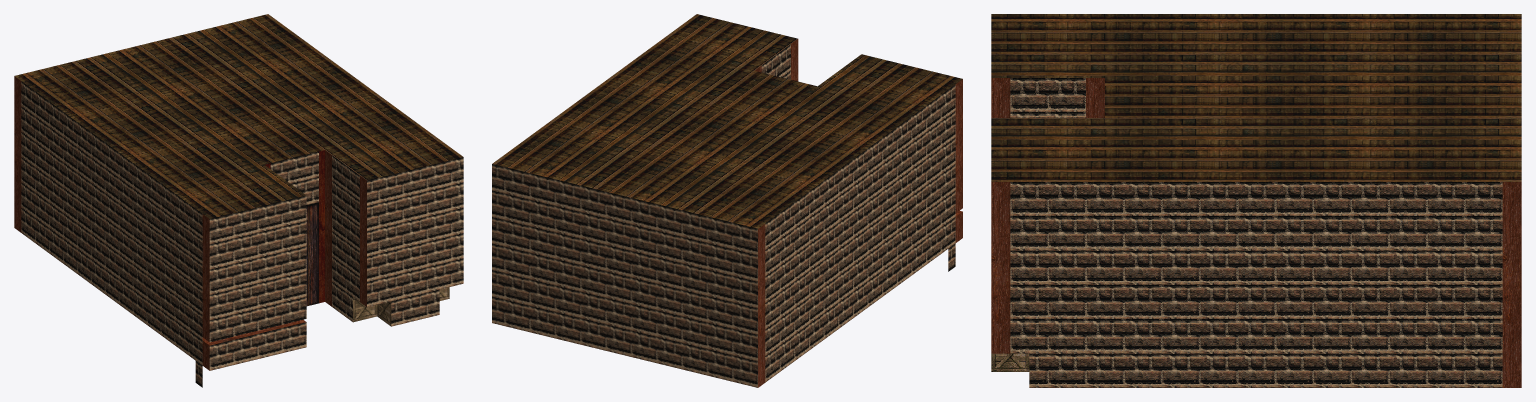
File: zddb04.blv.obj
The picture shows the model from 3 angles, left to right: view 1: azimuth 30°, elevation 25°; view 2: azimuth 150°, elevation 25°; view 3: azimuth 270°, elevation 25°; orthographic projection. The views are drawn at different scales.
Visible parts, largest first — view 1: Room1; view 2: Room1; view 3: Room1.
Part boxes in pixels (left/top/right/bottom): Room1: left=14, top=14, right=463, bottom=387; Room1: left=492, top=14, right=962, bottom=387; Room1: left=991, top=14, right=1521, bottom=387.
Size of the model in its own units: 672 by 440 by 896.
Materials: 8 (8 with a texture image).
